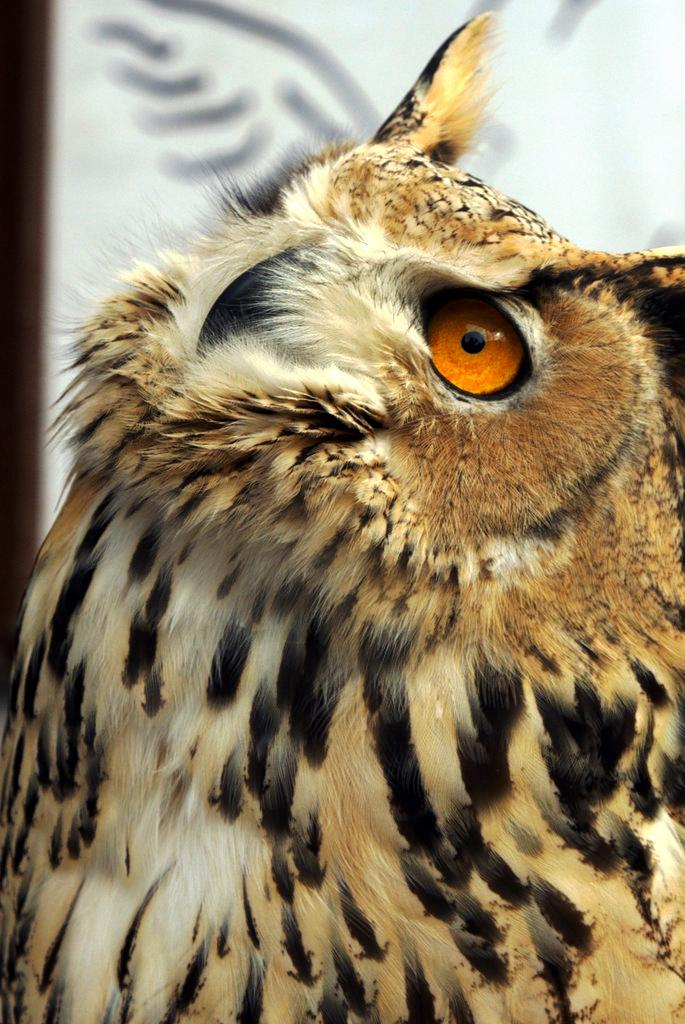Owl: (0, 4, 684, 1024)
